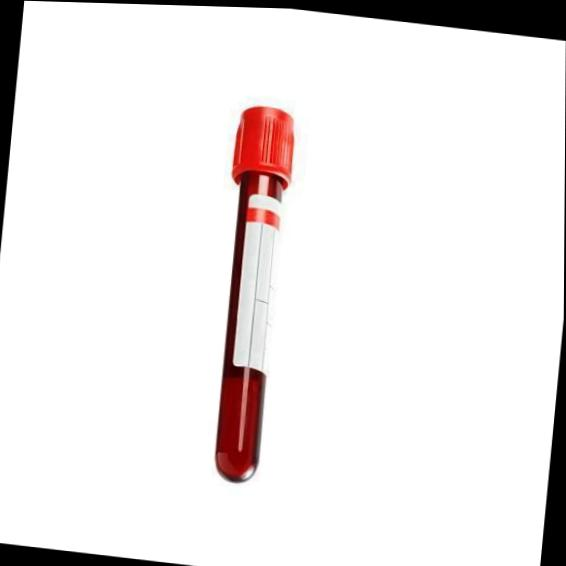Fire: (216, 170, 286, 481)
